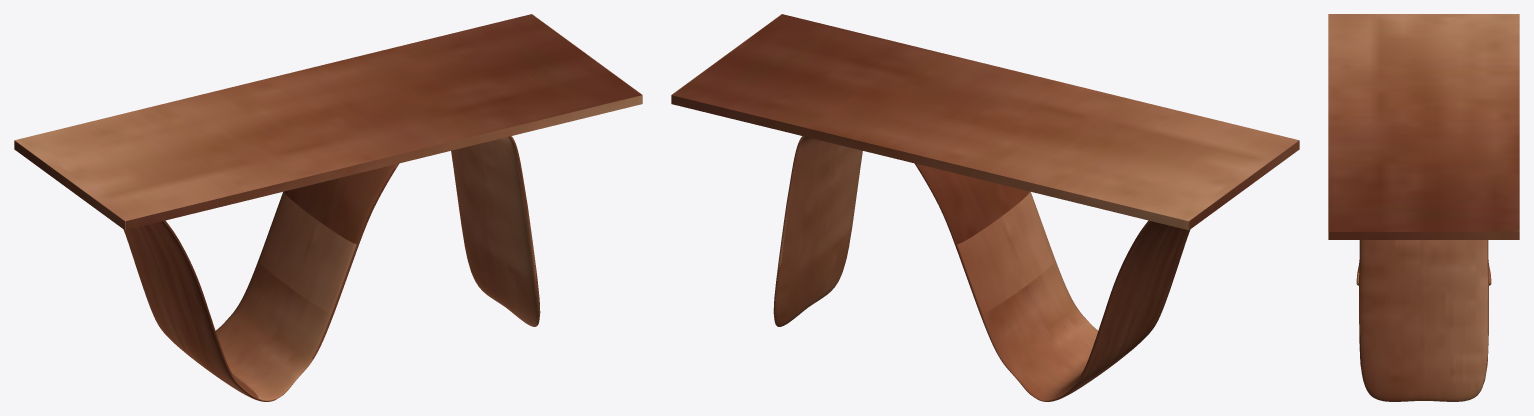
File: table_curved.glb
3 renders of one model, left to right at view 1: azimuth 30°, elevation 25°; view 2: azimuth 150°, elevation 25°; view 3: azimuth 270°, elevation 25°, orthographic. The views are drawn at different scales.
Parts seen in each view (by area): view 1: horizontal_table_1, Curvy_Part_0; view 2: horizontal_table_1, Curvy_Part_0; view 3: horizontal_table_1, Curvy_Part_0.
Boxes of the visible parts, <box> form: horizontal_table_1: <box>14,14,642,230</box>; Curvy_Part_0: <box>123,136,540,401</box>; horizontal_table_1: <box>671,14,1299,230</box>; Curvy_Part_0: <box>773,136,1190,401</box>; horizontal_table_1: <box>1328,14,1519,239</box>; Curvy_Part_0: <box>1356,240,1491,401</box>.
Size of the model in its own units: 1.54 by 0.671 by 0.5722.
1 material, 1 textured.
